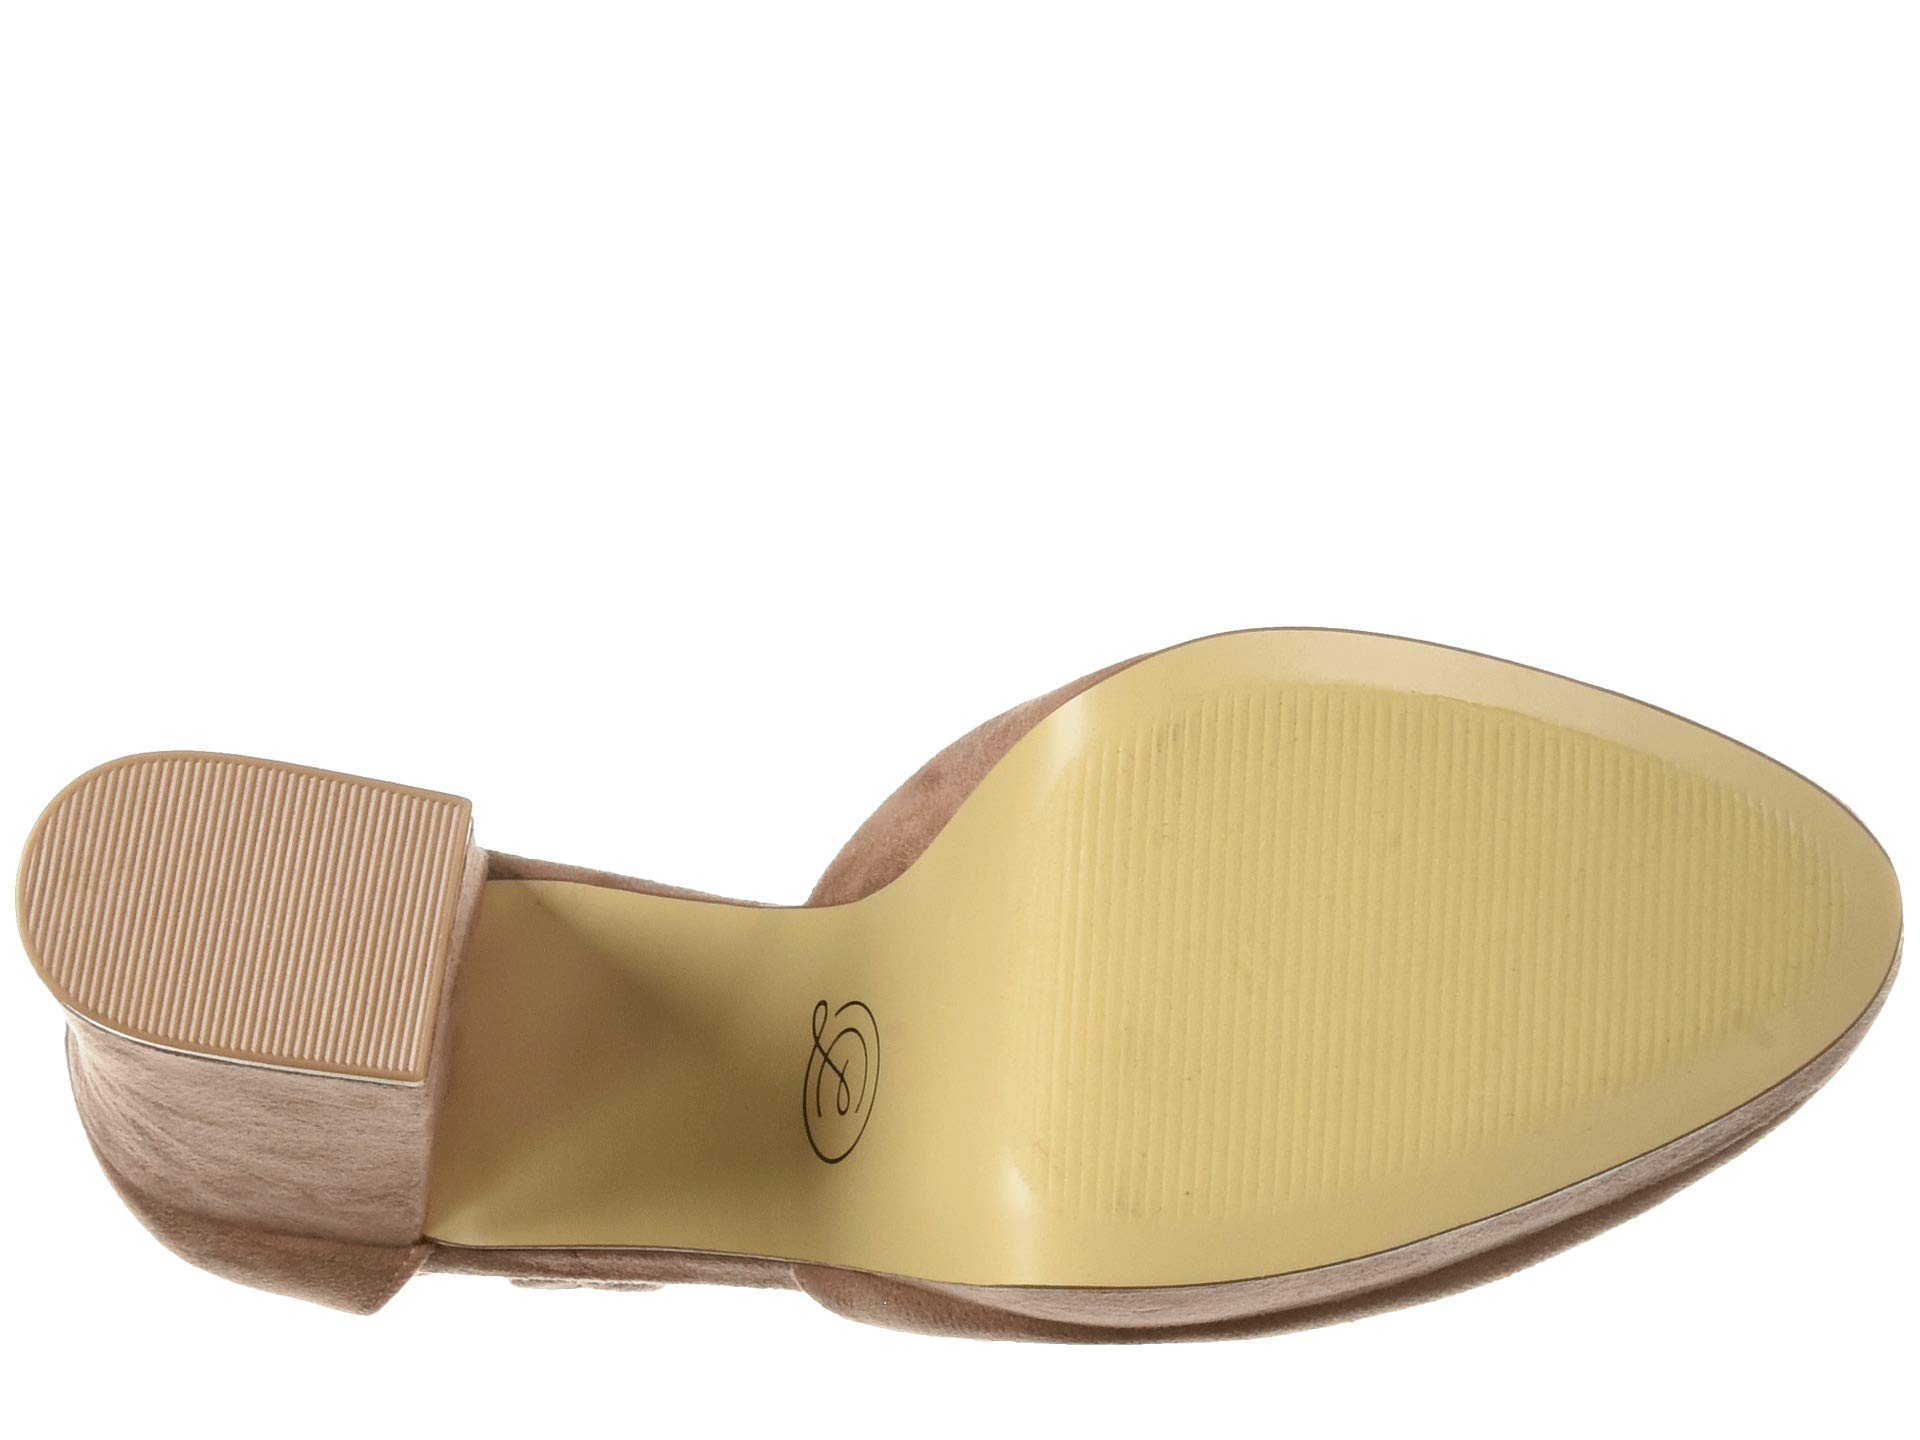line: (1119, 812, 1426, 1125), (119, 808, 333, 1019)
